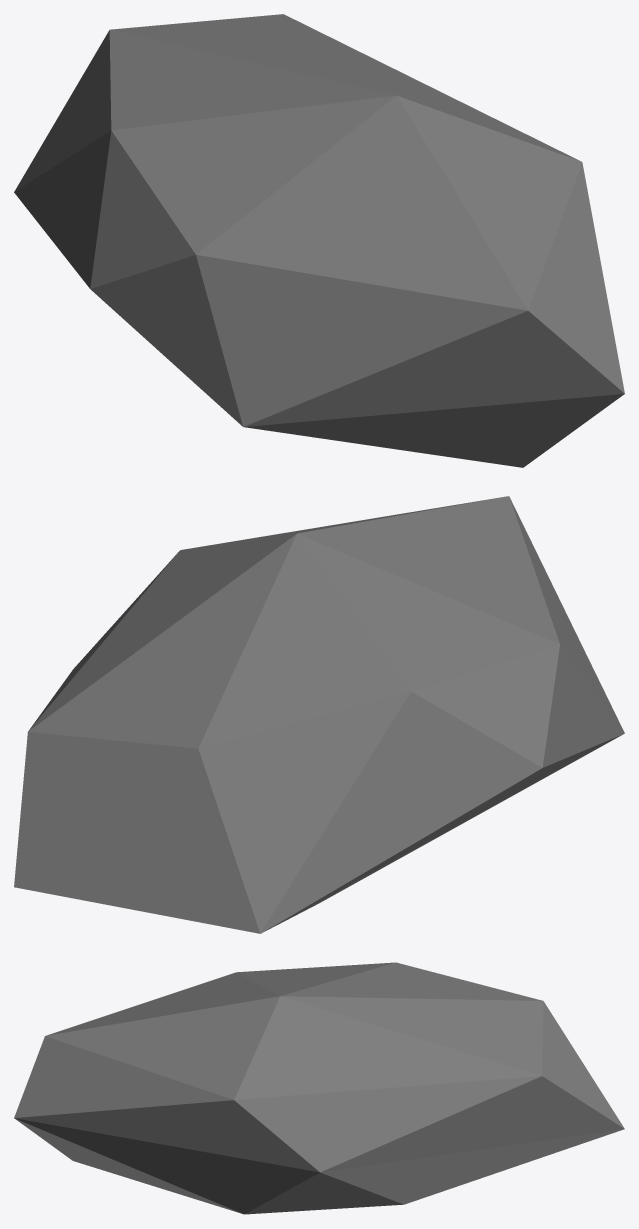
File: rock 1.obj
3 views of the same model, one above another, from view 1: azimuth 30°, elevation 25°; view 2: azimuth 150°, elevation 25°; view 3: azimuth 270°, elevation 25° (orthographic). The views are drawn at different scales.
Parts seen in each view (by area): view 1: Icosphere; view 2: Icosphere; view 3: Icosphere.
Boxes of the visible parts, box(x1,y1,x2,y2) form: Icosphere: box(14, 14, 624, 467); Icosphere: box(14, 496, 624, 933); Icosphere: box(14, 962, 624, 1214).
Size of the model in its own units: 1.21 by 0.7565 by 1.98.
